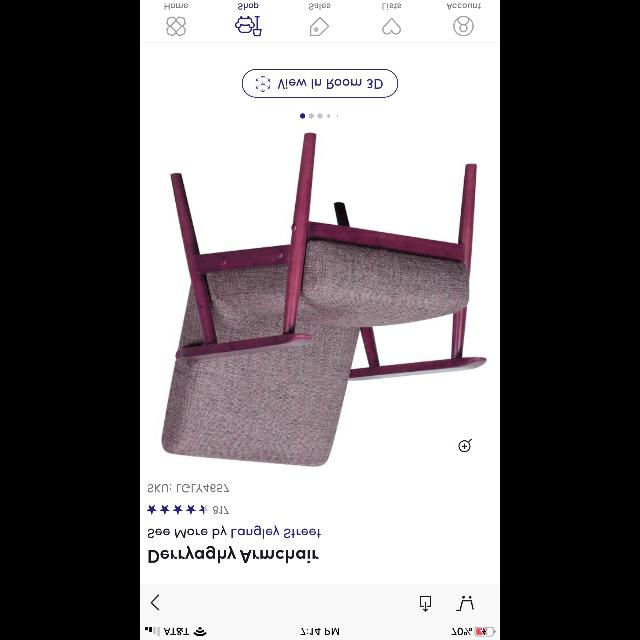icon: (148, 506, 208, 514), (453, 16, 473, 36), (310, 16, 330, 36), (383, 18, 401, 34), (456, 596, 474, 610), (458, 438, 472, 452), (420, 595, 432, 611), (151, 594, 159, 610)
image: (162, 133, 486, 467), (236, 16, 262, 36), (167, 16, 186, 36)
pageindicator: (300, 114, 338, 118)
text: (149, 545, 319, 563), (147, 526, 320, 538), (148, 484, 230, 492), (448, 4, 480, 10), (239, 2, 259, 10), (165, 3, 188, 9), (213, 506, 229, 514), (310, 4, 330, 10), (383, 4, 401, 10)
textbutton: (242, 68, 398, 98)
uppertaskbar: (140, 626, 500, 640)
